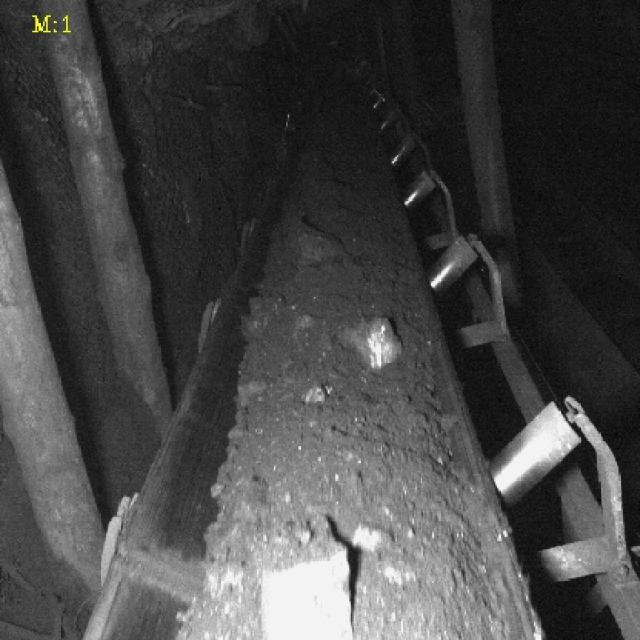large_sized_coal: (255, 547, 358, 640), (338, 320, 400, 371), (294, 222, 340, 276), (354, 526, 394, 556)
